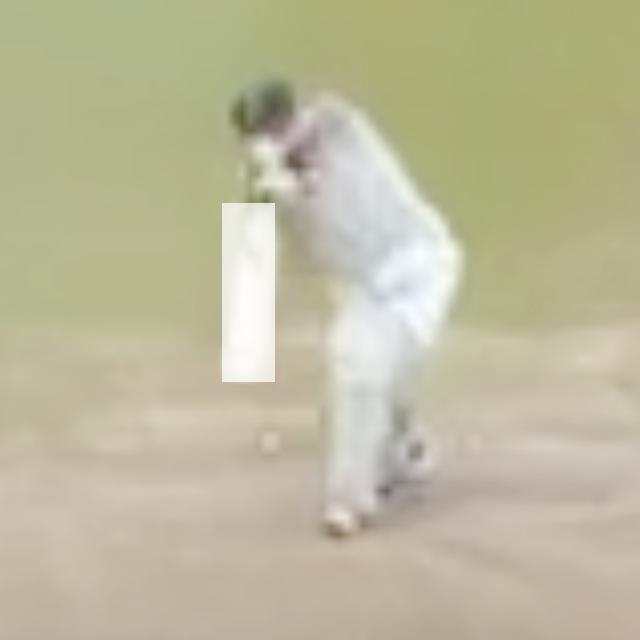bat: (224, 203, 274, 384)
